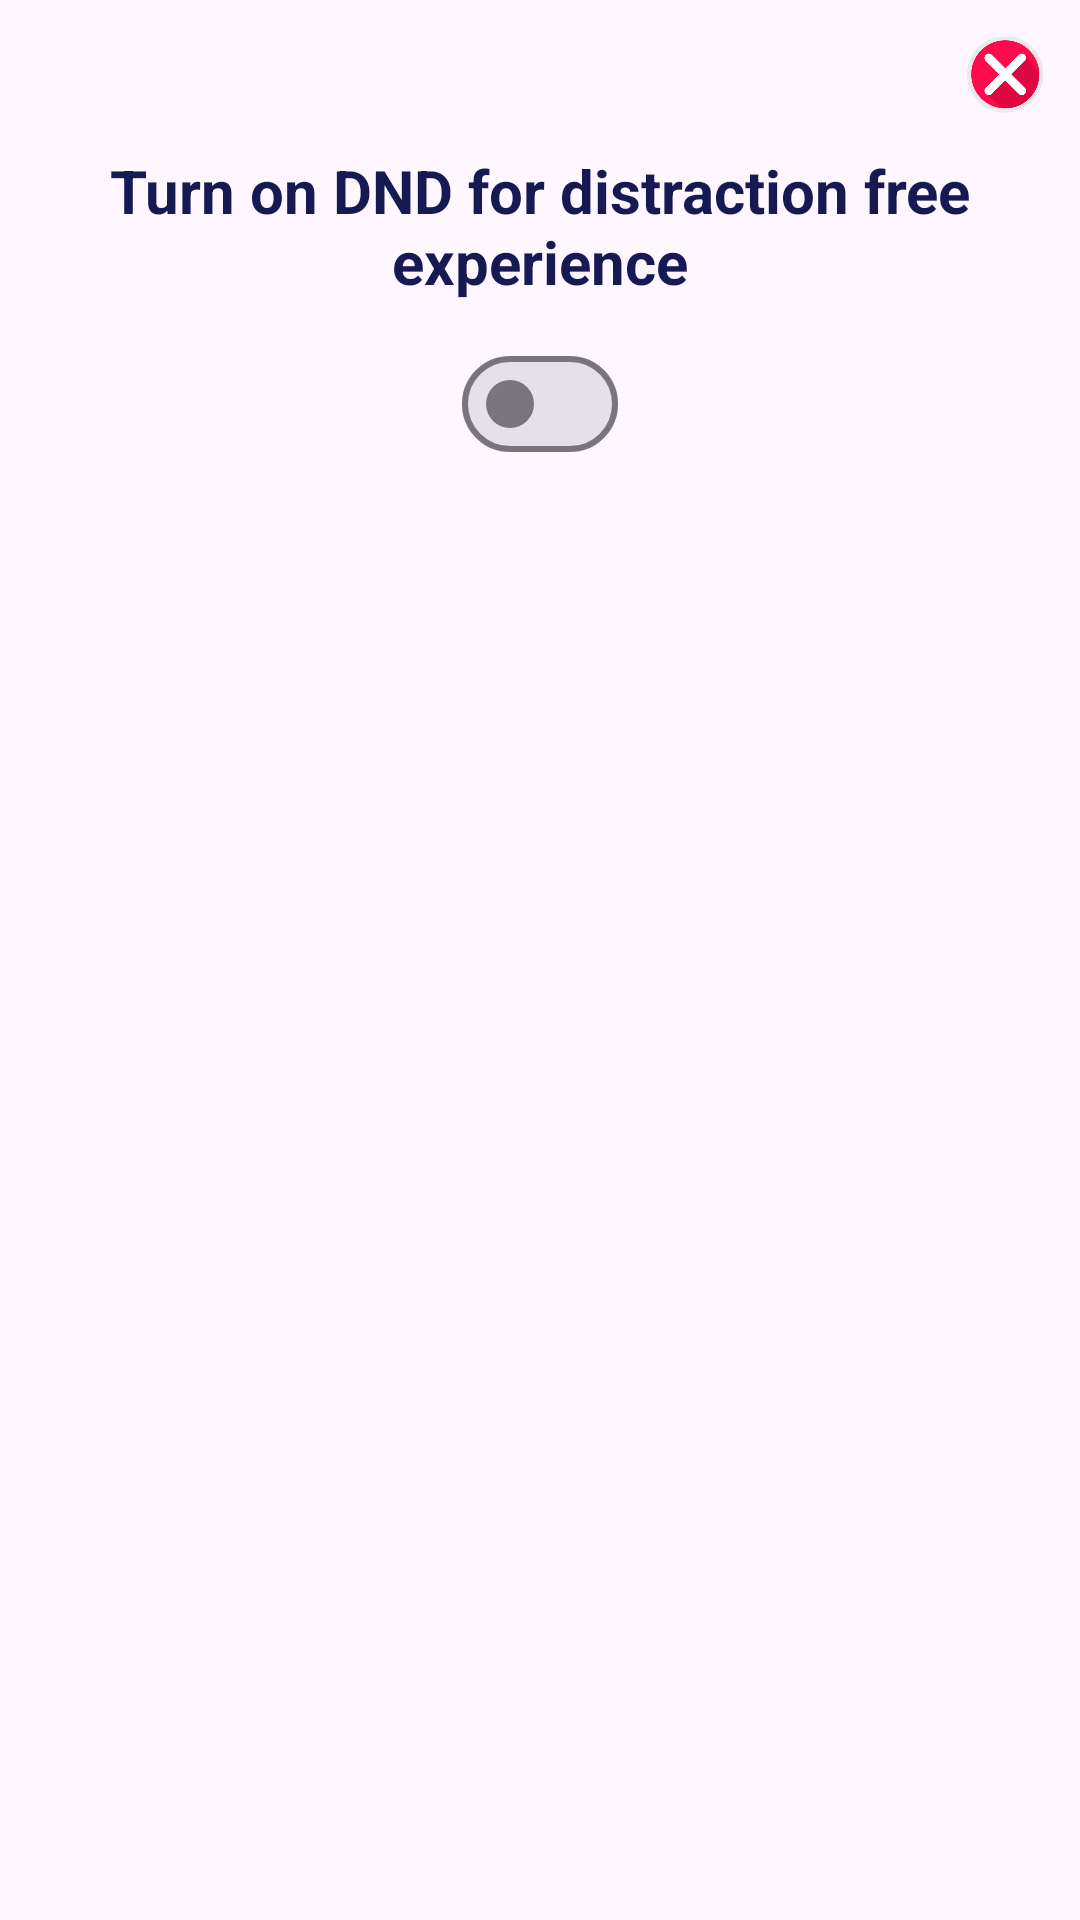

Icons on this 1080px×1920px Android screen, each with the point to tap as (x=x, y=y):
cancel: (x=1005, y=74)
